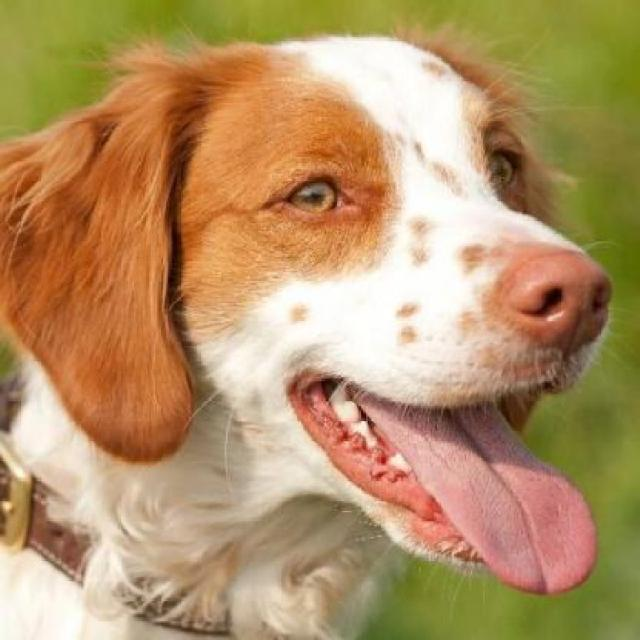animals: (0, 29, 611, 628)
